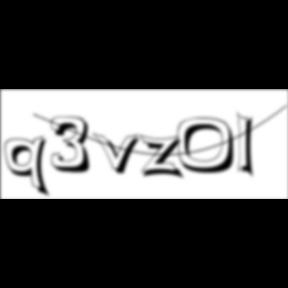3: (52, 116, 98, 176)
I: (237, 110, 261, 182)
O: (178, 117, 242, 176)
q: (4, 135, 54, 200)
v: (93, 131, 147, 177)
z: (140, 134, 188, 182)
